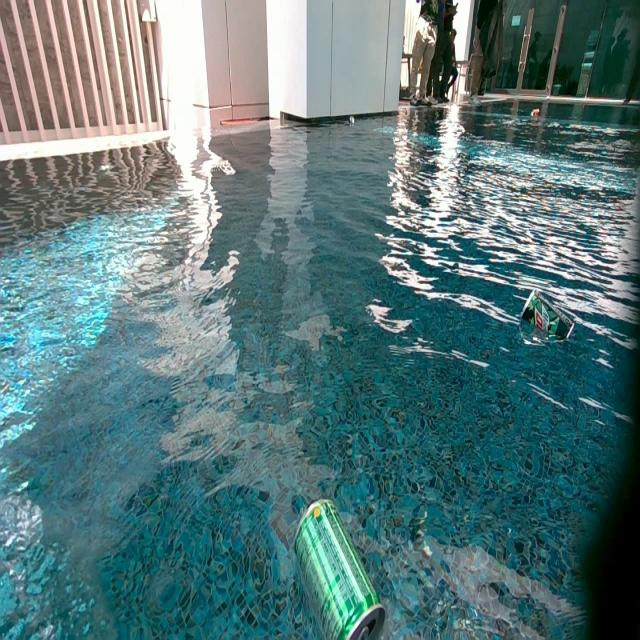Cans: (294, 496, 393, 640), (521, 289, 552, 334), (531, 109, 540, 118), (349, 117, 355, 126)
